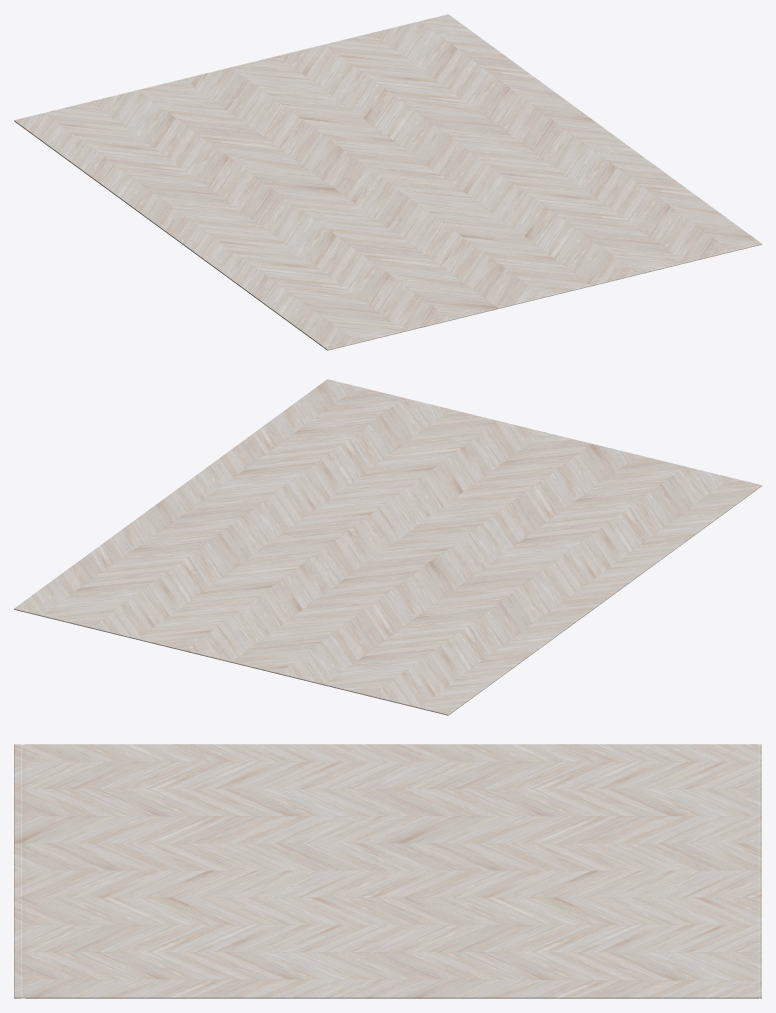
Rendered from Project Name.gltf.
3 views of the same model, one above another, from view 1: azimuth 30°, elevation 25°; view 2: azimuth 150°, elevation 25°; view 3: azimuth 270°, elevation 25° (orthographic). The views are drawn at different scales.
Parts seen in each view (by area): view 1: 51072_StrellaRug_Grey; view 2: 51072_StrellaRug_Grey; view 3: 51072_StrellaRug_Grey.
Part boxes in pixels (left/top/right/bottom): 51072_StrellaRug_Grey: left=14, top=14, right=761, bottom=350; 51072_StrellaRug_Grey: left=14, top=379, right=761, bottom=715; 51072_StrellaRug_Grey: left=14, top=744, right=761, bottom=998.
Size of the model in its own units: 2.44 by 0.00716 by 3.05.
1 material, 1 textured.
